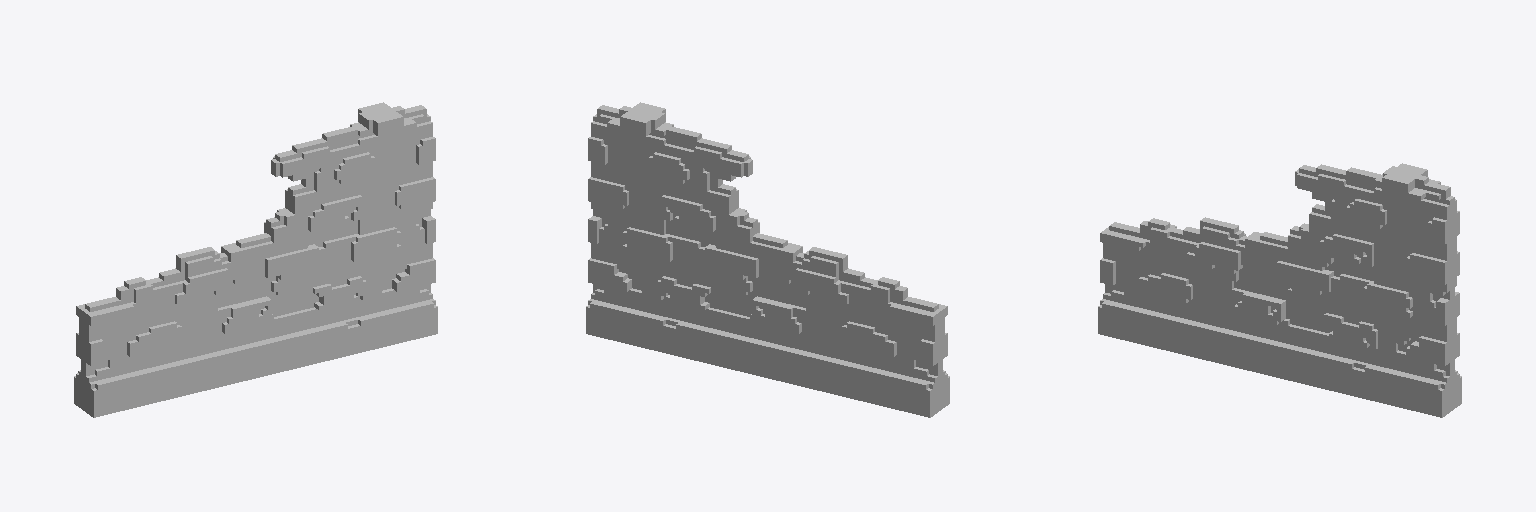
Rendered from HalfWall2.obj.
The picture shows the model from 3 angles: view 1: azimuth 30°, elevation 25°; view 2: azimuth 150°, elevation 25°; view 3: azimuth 330°, elevation 25°; orthographic projection.
Parts seen in each view (by area): view 1: HalfWall; view 2: HalfWall; view 3: HalfWall.
Part boxes in pixels (left/top/right/bottom): HalfWall: left=74, top=102, right=437, bottom=417; HalfWall: left=586, top=102, right=949, bottom=417; HalfWall: left=1098, top=163, right=1461, bottom=417.
Bounding box in the file's own units: 8 × 5 × 0.8.